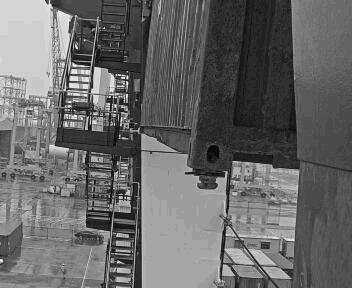twist_lock_1: (188, 163, 232, 195)
